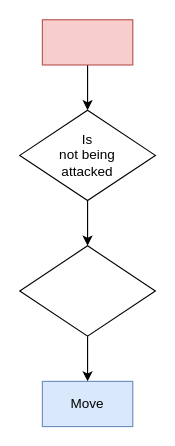
Image size: 175x446. Some labels were removed from this diagram. The box of each missing label's shape, as (x1, y1, x2, y2) in pixels:
Attack: (41, 19, 133, 65)
Cannot see any enemies: (19, 245, 155, 336)
